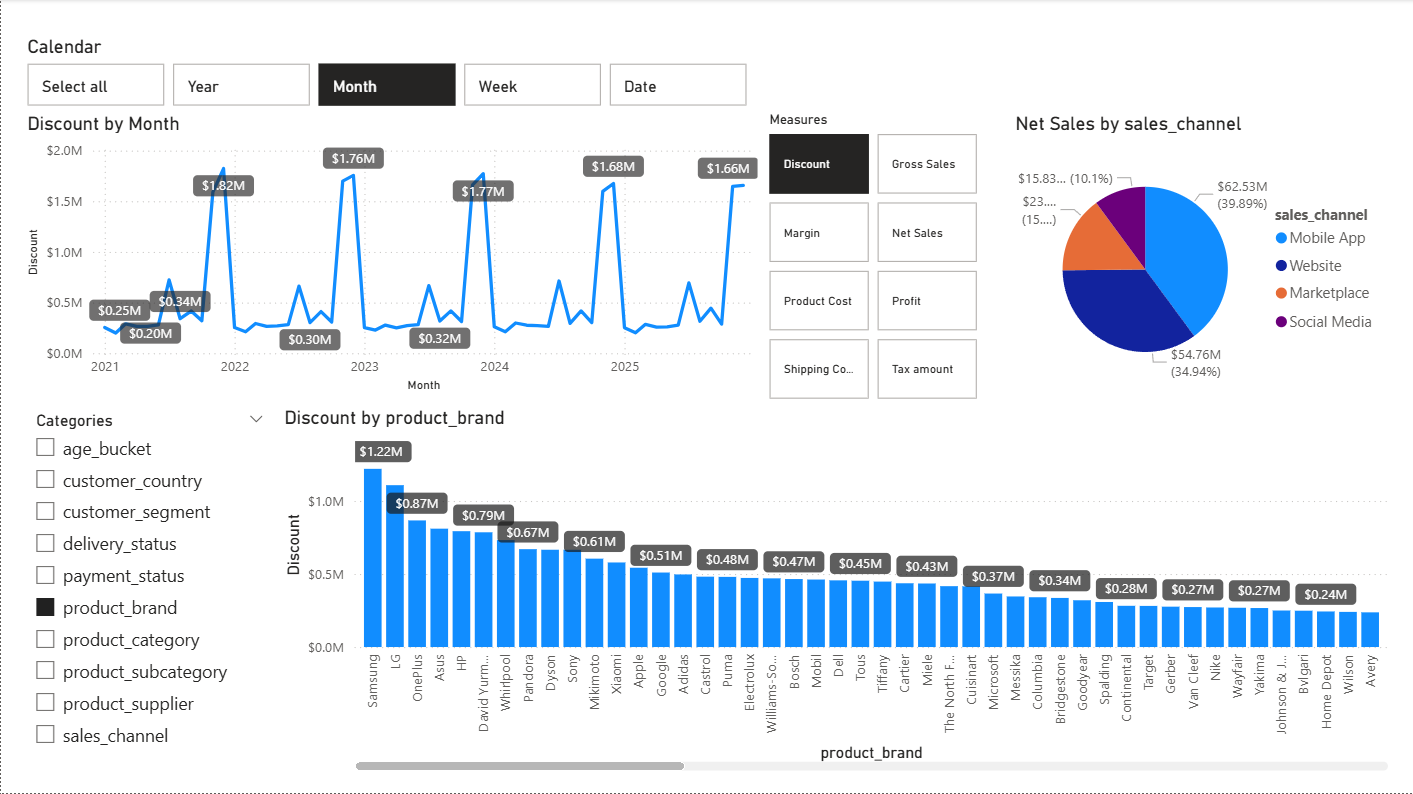

What the dashboard file says about the page in this screenshot:
{"tool":"powerbi","page":{"name":"Page 1","canvas":[1280,720],"ordinal":0},"visuals":[{"type":"lineChart","fields":{"Category":["ecommerce_sales_summary.Month"],"Y":["Measures_.Discount"]},"box":[19.5,102.1,672.1,257.8],"z":0},{"type":"slicer","fields":{"Values":["Categories.Categories"]},"box":[19.5,368.6,231.5,335.6],"z":1},{"type":"advancedSlicerVisual","fields":{"Values":["Calendar.Calendar"]},"box":[19.5,33.1,663.3,69.1],"z":2},{"type":"advancedSlicerVisual","fields":{"Values":["Measures 2.Measures"]},"box":[691.6,102.1,198.4,266.5],"z":3},{"type":"lineStackedColumnComboChart","fields":{"Y":["Measures_.Discount"],"Category":["ecommerce_sales_summary.product_brand"]},"box":[251.9,368.6,1010.6,335.6],"z":4},{"type":"pieChart","fields":{"Y":["Measures_.Net Sales"],"Category":["ecommerce_sales_summary.sales_channel"]},"box":[915.3,102.1,347.2,266.5],"z":5}]}

Visuals, with their boxes in screenshot pixels (x1, y1, x2, y2), scaled from the page's 1280x720 canvas onto the 1413x794 screenshot:
lineChart - ecommerce_sales_summary.Month x Measures_.Discount: region(22, 113, 763, 397)
slicer - Categories.Categories: region(22, 406, 277, 777)
advancedSlicerVisual - Calendar.Calendar: region(22, 37, 754, 113)
advancedSlicerVisual - Measures 2.Measures: region(763, 113, 982, 406)
lineStackedColumnComboChart - Measures_.Discount x ecommerce_sales_summary.product_brand: region(278, 406, 1394, 777)
pieChart - Measures_.Net Sales x ecommerce_sales_summary.sales_channel: region(1010, 113, 1394, 406)
